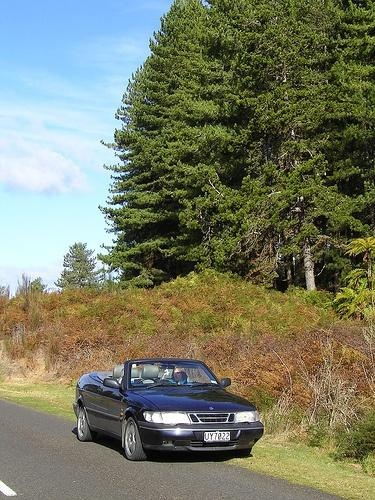car: (74, 358, 266, 462)
